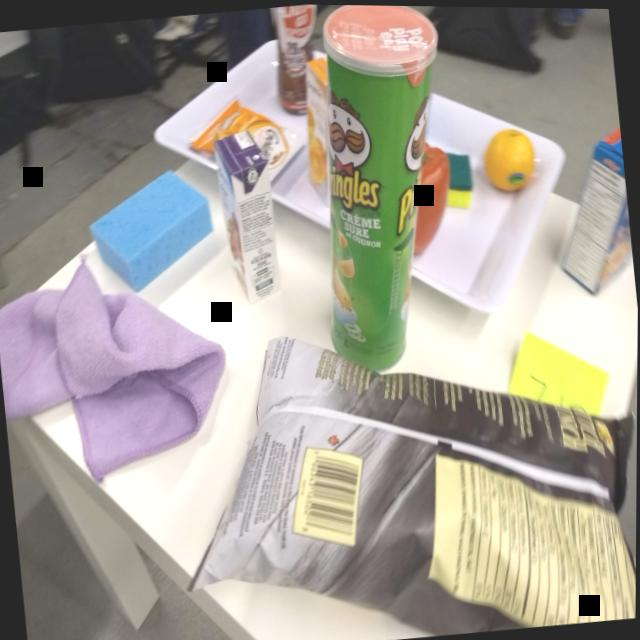cereal: (544, 110, 637, 291)
crackers: (199, 95, 308, 194)
grape_juice: (211, 125, 290, 308), (297, 52, 347, 203)
orange: (477, 122, 541, 202)
paprika: (403, 129, 459, 268)
potato_chips: (203, 317, 638, 640)
pringles: (299, 4, 470, 383)
scrubby: (441, 143, 477, 214)
sponge_opl: (77, 158, 227, 297)
